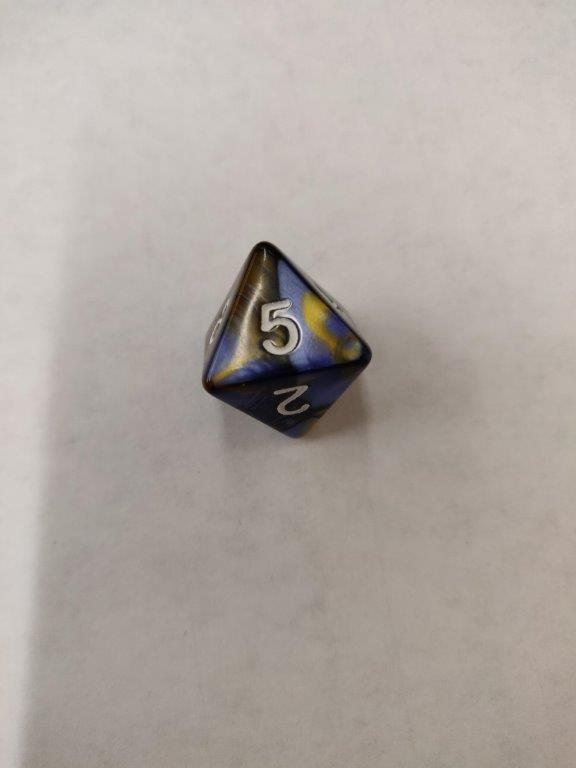d8-5: (199, 237, 373, 452)
